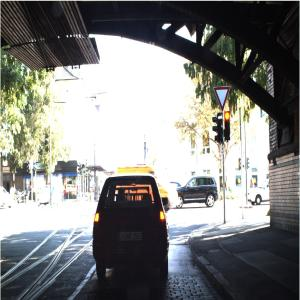give way: (214, 87, 231, 113)
keep right: (52, 188, 56, 196)
